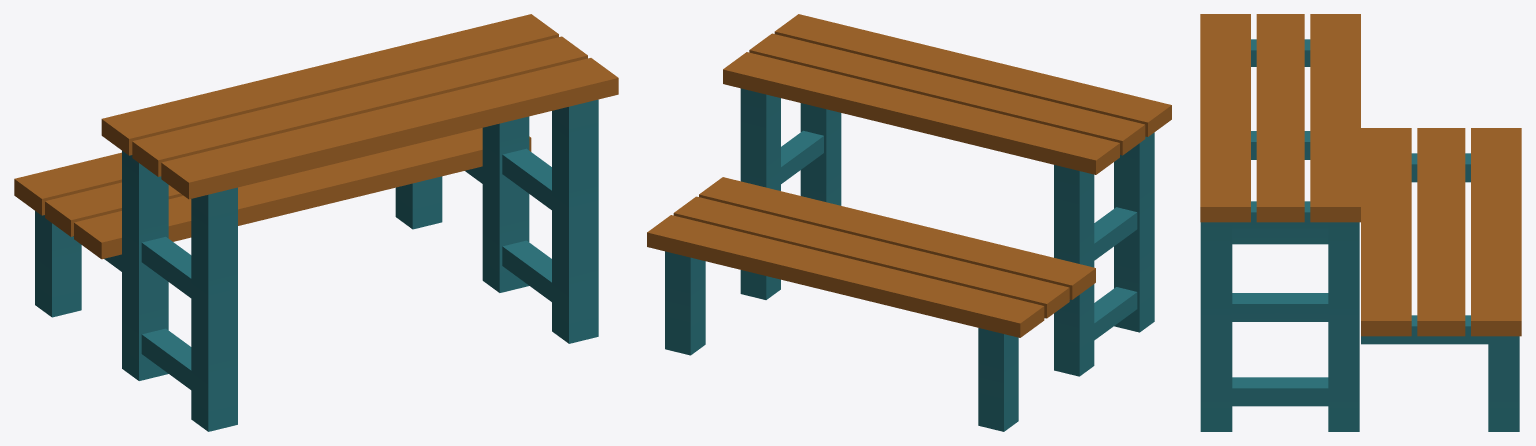
Rendered from Bench_1_E_2.fbx.
The picture shows the model from 3 angles, left to right: view 1: azimuth 30°, elevation 25°; view 2: azimuth 150°, elevation 25°; view 3: azimuth 270°, elevation 25°; orthographic projection. The views are drawn at different scales.
Visible parts, largest first — view 1: Bench_1_E_2; view 2: Bench_1_E_2; view 3: Bench_1_E_2.
Part boxes in pixels (x1=…): Bench_1_E_2: x1=14, y1=14, x2=618, y2=431; Bench_1_E_2: x1=647, y1=14, x2=1171, y2=431; Bench_1_E_2: x1=1200, y1=14, x2=1521, y2=431.
Size of the model in its own units: 116 by 65.4 by 81.37.
